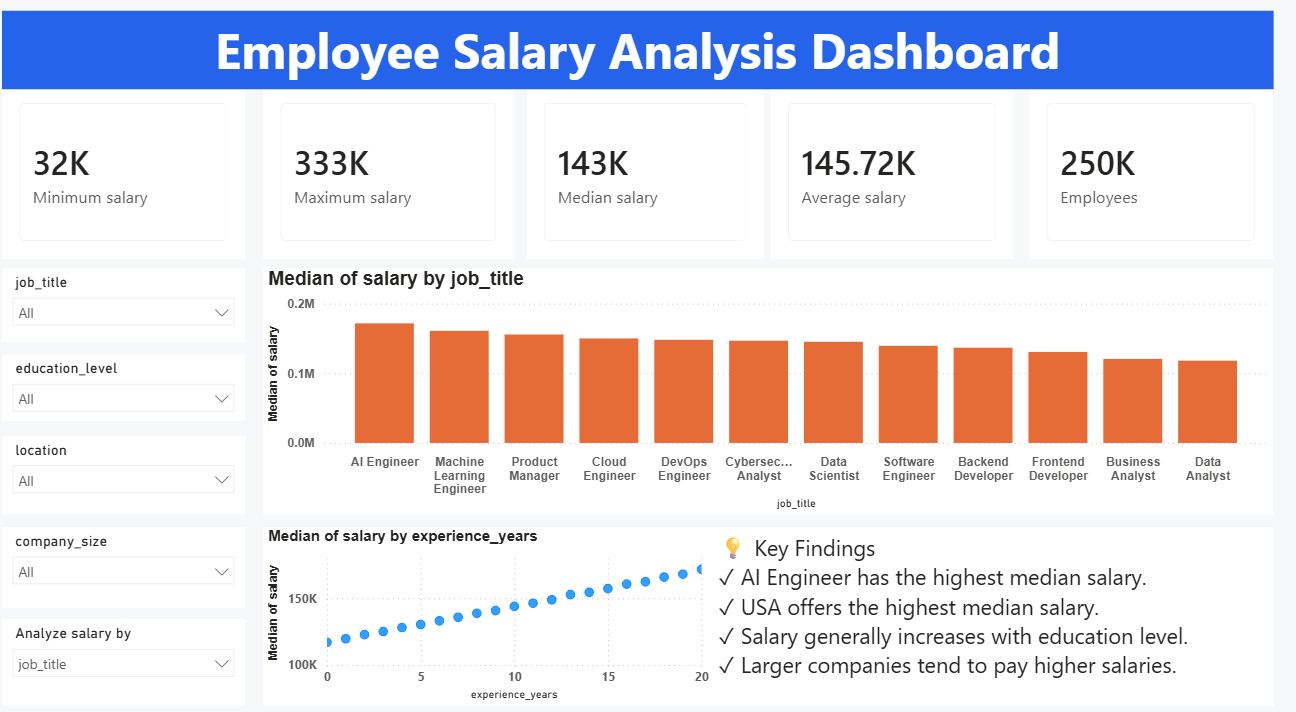

What the dashboard file says about the page in this screenshot:
{"tool":"powerbi","page":{"name":"Page 1","canvas":[1280,720],"ordinal":0},"visuals":[{"type":"clusteredColumnChart","fields":{"Category":["job_salary_prediction_dataset.job_title"],"Y":["Median(job_salary_prediction_dataset.salary)"]},"box":[265.4,275.1,988,240.9],"z":0},{"type":"cardVisual","fields":{"Data":["Min(job_salary_prediction_dataset.salary)"]},"box":[9.8,96.6,237.2,170],"z":1000},{"type":"cardVisual","fields":{"Data":["Max(job_salary_prediction_dataset.salary)"]},"box":[265.4,96.6,245.8,170],"z":2000},{"type":"cardVisual","fields":{"Data":["Avg(job_salary_prediction_dataset.salary)"]},"box":[761.8,96.6,237.2,170],"z":3000},{"type":"cardVisual","fields":{"Data":["Median(job_salary_prediction_dataset.salary)"]},"box":[523.4,96.6,232.3,170],"z":4000},{"type":"cardVisual","title":"Employees","fields":{"Data":["CountNonNull(job_salary_prediction_dataset.salary)"]},"box":[1015,96.6,238.5,170],"z":5000},{"type":"slicer","fields":{"Values":["variable.job_title"]},"box":[9.8,618.8,237.2,84.4],"z":6000},{"type":"textbox","box":[9.8,23.2,1243.6,77],"z":7000},{"type":"slicer","fields":{"Values":["job_salary_prediction_dataset.job_title"]},"box":[9.8,275.1,237.2,72.1],"z":8000},{"type":"slicer","fields":{"Values":["job_salary_prediction_dataset.education_level"]},"box":[9.8,359.5,237.2,64.8],"z":9000},{"type":"slicer","fields":{"Values":["job_salary_prediction_dataset.location"]},"box":[9.8,439,237.2,77],"z":10000},{"type":"slicer","fields":{"Values":["job_salary_prediction_dataset.company_size"]},"box":[9.8,528.3,237.2,79.5],"z":11000},{"type":"textbox","box":[705.6,528.3,547.8,174.9],"z":12000},{"type":"scatterChart","fields":{"Y":["Median(job_salary_prediction_dataset.salary)"],"X":["job_salary_prediction_dataset.experience_years","job_salary_prediction_dataset.skills_count","job_salary_prediction_dataset.certifications"]},"box":[265,528,441,175],"z":13000}]}

Visuals, with their boxes in screenshot pixels (x1, y1, x2, y2), scaled from the page's 1280x720 canvas onto the 1296x712 screenshot:
clusteredColumnChart - job_salary_prediction_dataset.job_title x Median(job_salary_prediction_dataset.salary): box(269, 272, 1269, 510)
cardVisual - Min(job_salary_prediction_dataset.salary): box(10, 96, 250, 264)
cardVisual - Max(job_salary_prediction_dataset.salary): box(269, 96, 518, 264)
cardVisual - Avg(job_salary_prediction_dataset.salary): box(771, 96, 1011, 264)
cardVisual - Median(job_salary_prediction_dataset.salary): box(530, 96, 765, 264)
"Employees" cardVisual: box(1028, 96, 1269, 264)
slicer - variable.job_title: box(10, 612, 250, 695)
textbox: box(10, 23, 1269, 99)
slicer - job_salary_prediction_dataset.job_title: box(10, 272, 250, 343)
slicer - job_salary_prediction_dataset.education_level: box(10, 356, 250, 420)
slicer - job_salary_prediction_dataset.location: box(10, 434, 250, 510)
slicer - job_salary_prediction_dataset.company_size: box(10, 522, 250, 601)
textbox: box(714, 522, 1269, 695)
scatterChart - Median(job_salary_prediction_dataset.salary) x job_salary_prediction_dataset.experience_years: box(268, 522, 715, 695)
